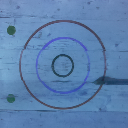Axe Tip: (92, 81, 109, 83)
